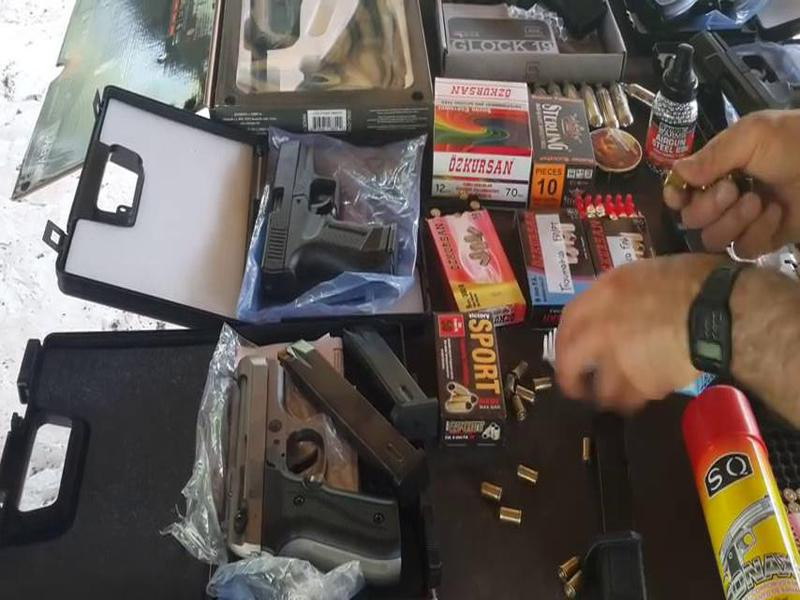Pistola: (175, 340, 426, 585), (256, 123, 399, 309)
